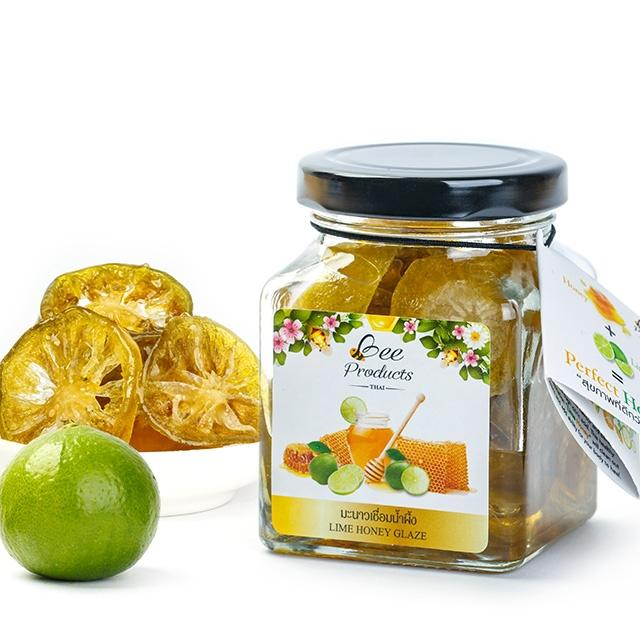lime: (0, 423, 160, 586)
